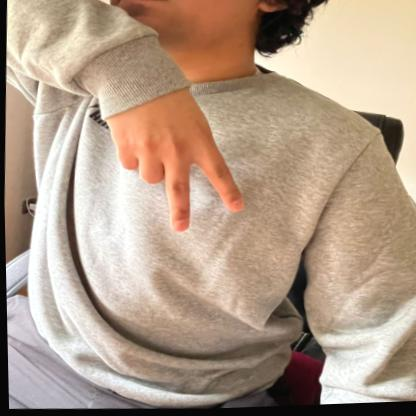N: (94, 70, 252, 243)
